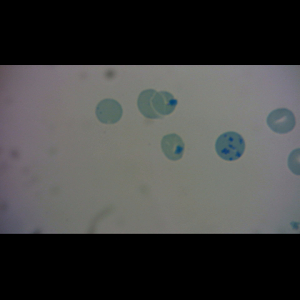aggregate reticulocyte: (215, 131, 246, 162)
erythrocyte: (137, 89, 167, 120), (265, 106, 297, 134), (150, 89, 178, 116), (160, 133, 186, 162)
punctate reticulocyte: (94, 98, 124, 125)
